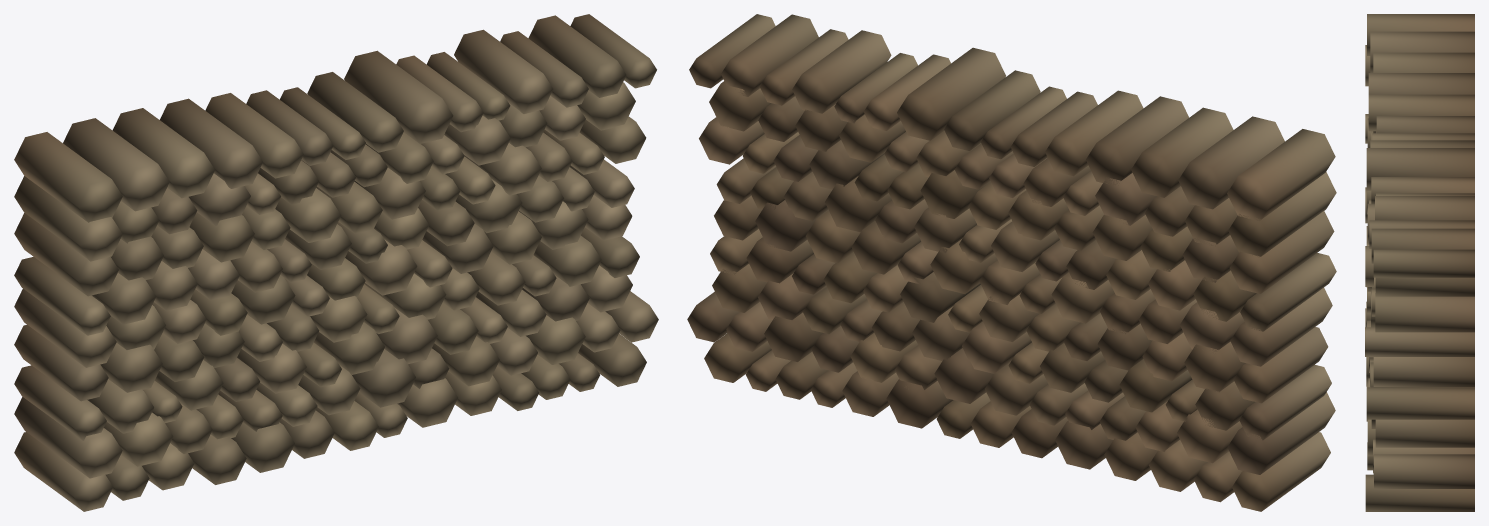
The model's file is SM_LogPile_2_Wood.glb.
The picture shows the model from 3 angles, left to right: view 1: azimuth 30°, elevation 25°; view 2: azimuth 150°, elevation 25°; view 3: azimuth 270°, elevation 25°; orthographic projection. The views are drawn at different scales.
Visible parts, largest first — view 1: SM_LogPile_2_Wood; view 2: SM_LogPile_2_Wood; view 3: SM_LogPile_2_Wood.
Part boxes in pixels (<box>): SM_LogPile_2_Wood: <box>14,14,658,511</box>; SM_LogPile_2_Wood: <box>687,14,1336,511</box>; SM_LogPile_2_Wood: <box>1365,14,1474,511</box>.
Bounding box in the file's own units: 2.19 × 1.19 × 0.4283.
